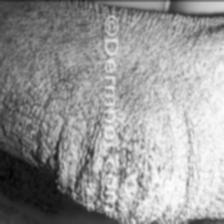Non-Cancerous Skin Condition: (117, 41, 224, 214), (0, 15, 96, 132)
